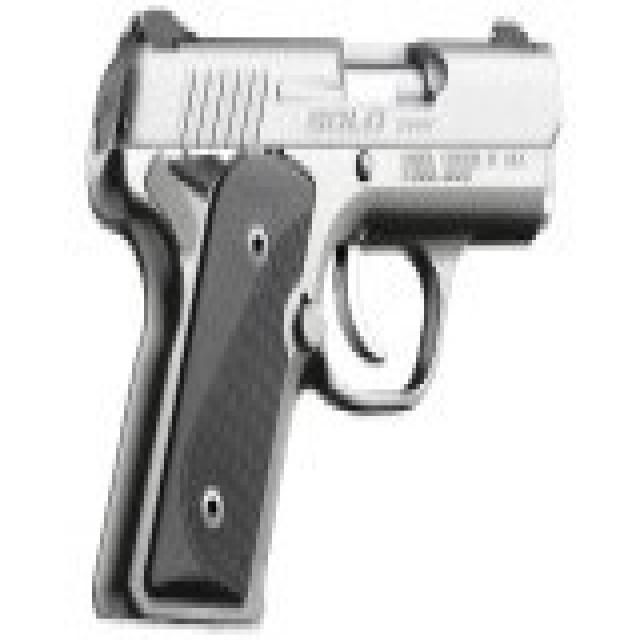Gun: (66, 5, 589, 607)
